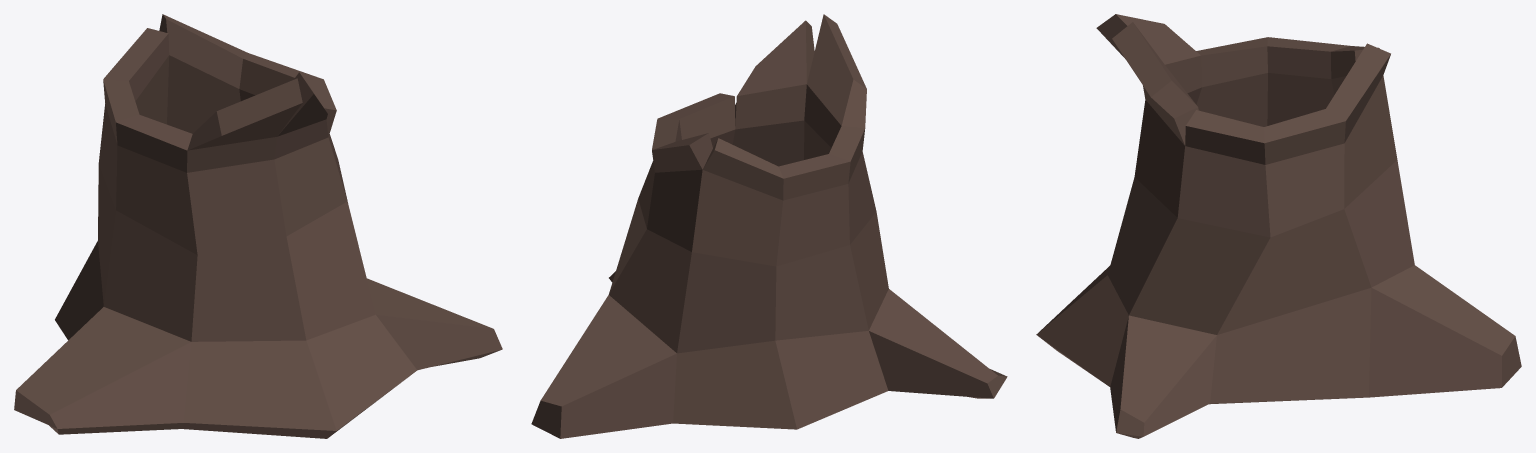
Rendered from Tree_Stump_Big.fbx.
3 views of the same model, side by side, from view 1: azimuth 30°, elevation 25°; view 2: azimuth 150°, elevation 25°; view 3: azimuth 270°, elevation 25° (orthographic). The views are drawn at different scales.
Parts seen in each view (by area): view 1: Stomp; view 2: Stomp; view 3: Stomp.
Part boxes in pixels (x1,y1,x2,y2): Stomp: [14, 14, 502, 438]; Stomp: [531, 14, 1007, 438]; Stomp: [1036, 14, 1521, 438].
Size of the model in its own units: 188 by 137 by 178.
